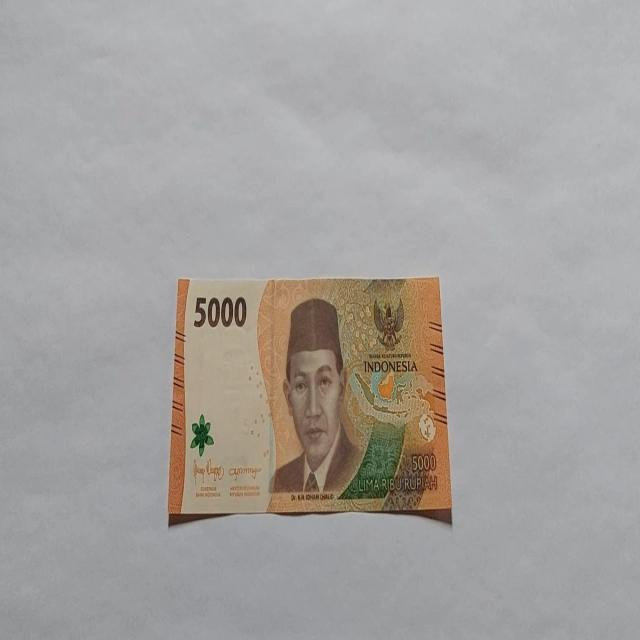lima ribu rupiah: (168, 274, 452, 526), (267, 296, 363, 499)
